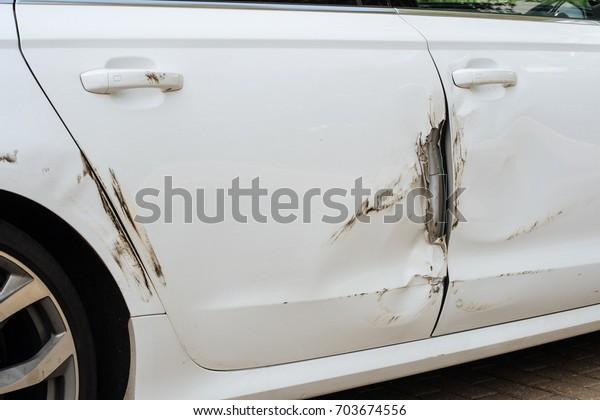scratch: (314, 95, 479, 330), (70, 138, 175, 316), (132, 62, 178, 91)
